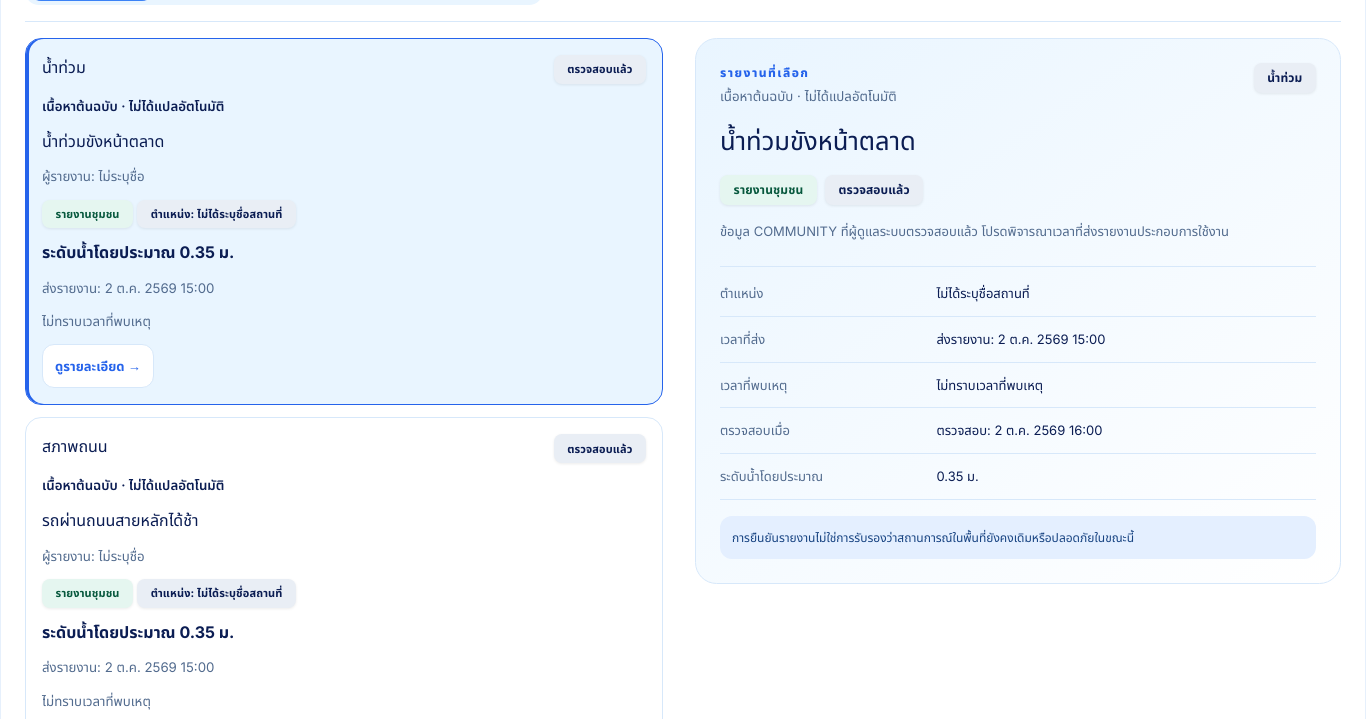
ReportsPage public list › filters the verified list and shows details for the selected real report
The image size is (1366, 719).
(page scrolled)
Click the 1st button "ดูรายละเอียด →".
click(98, 366)  # box [42,344,154,388]
(page scrolled)
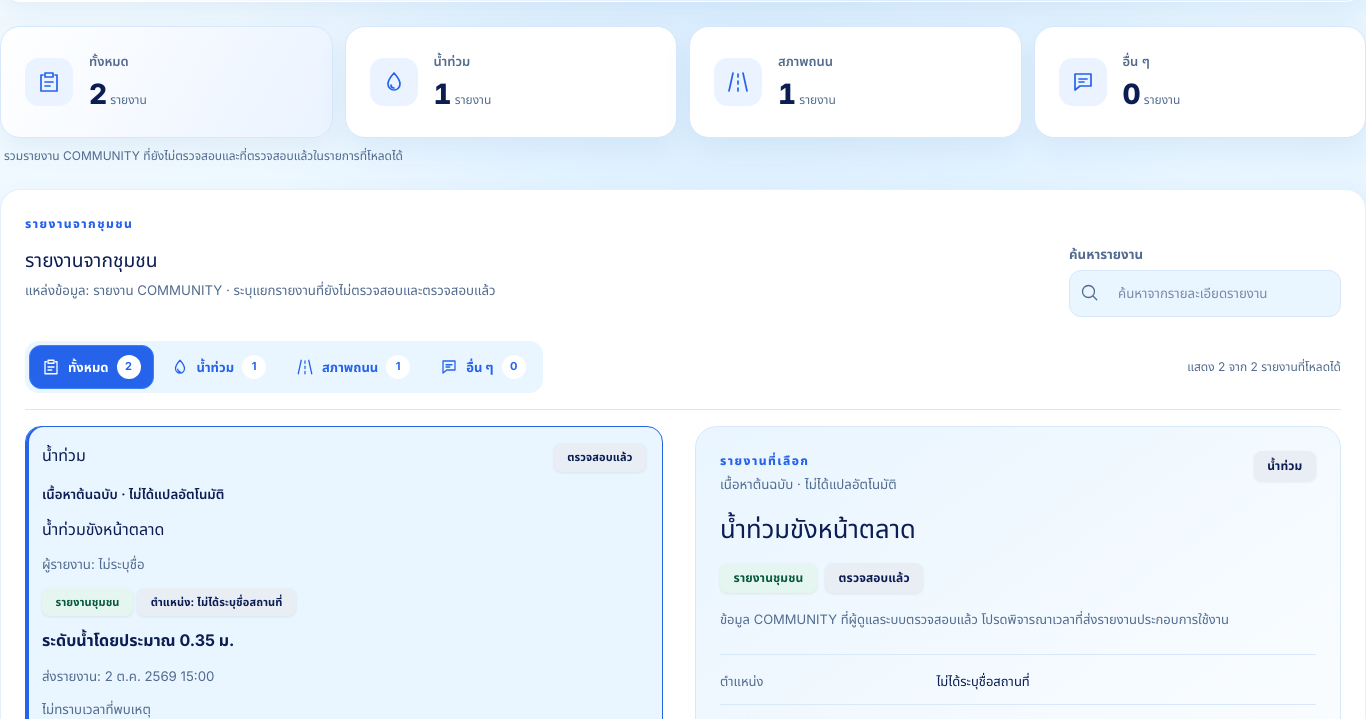
Expected: the heading "น้ำท่วมขังหน้าตลาด" is shown, [720,511,916,547]
Click the button "สภาพถนน 1".
click(353, 367)  # box [283,345,423,389]
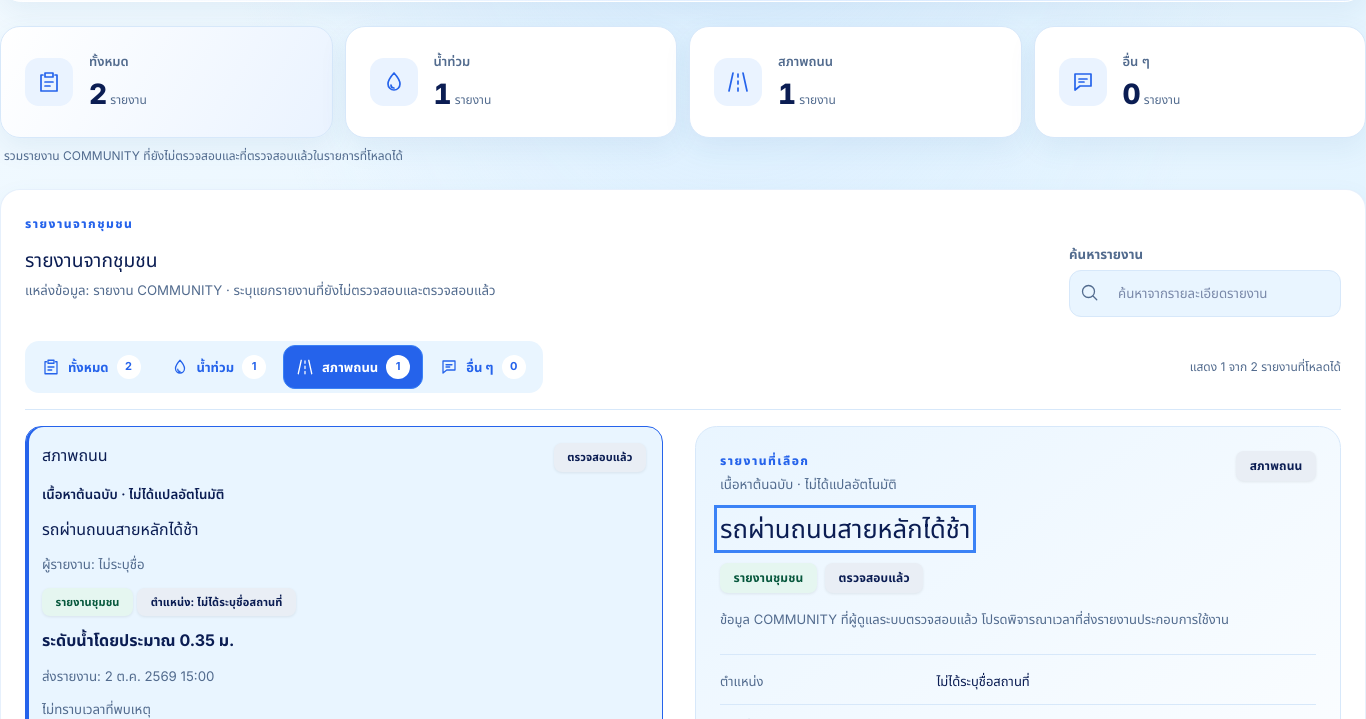
Now the heading "รถผ่านถนนสายหลักได้ช้า" is shown, box [720,511,970,547]
Now the text "น้ำท่วมขังหน้าตลาด" is gone
